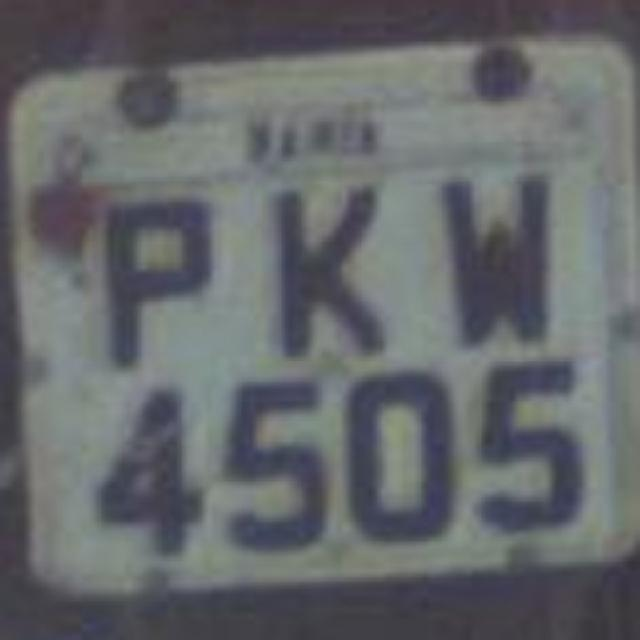0: (325, 364, 460, 551)
4: (72, 360, 212, 568)
5: (456, 360, 589, 545), (200, 376, 332, 549)
K: (248, 171, 400, 364)
P: (85, 176, 220, 372)
